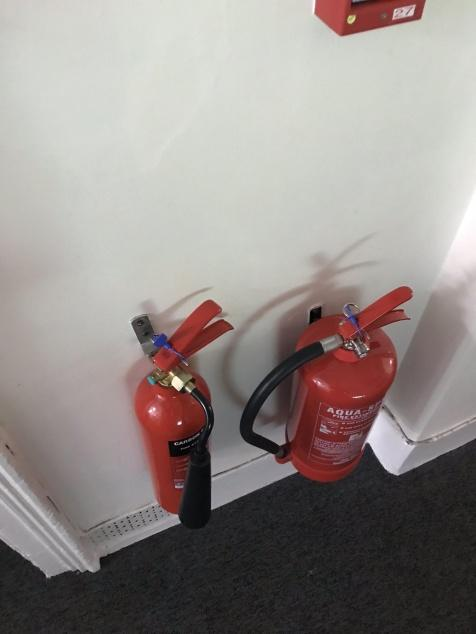APAR: (283, 284, 411, 481), (134, 298, 234, 516)
